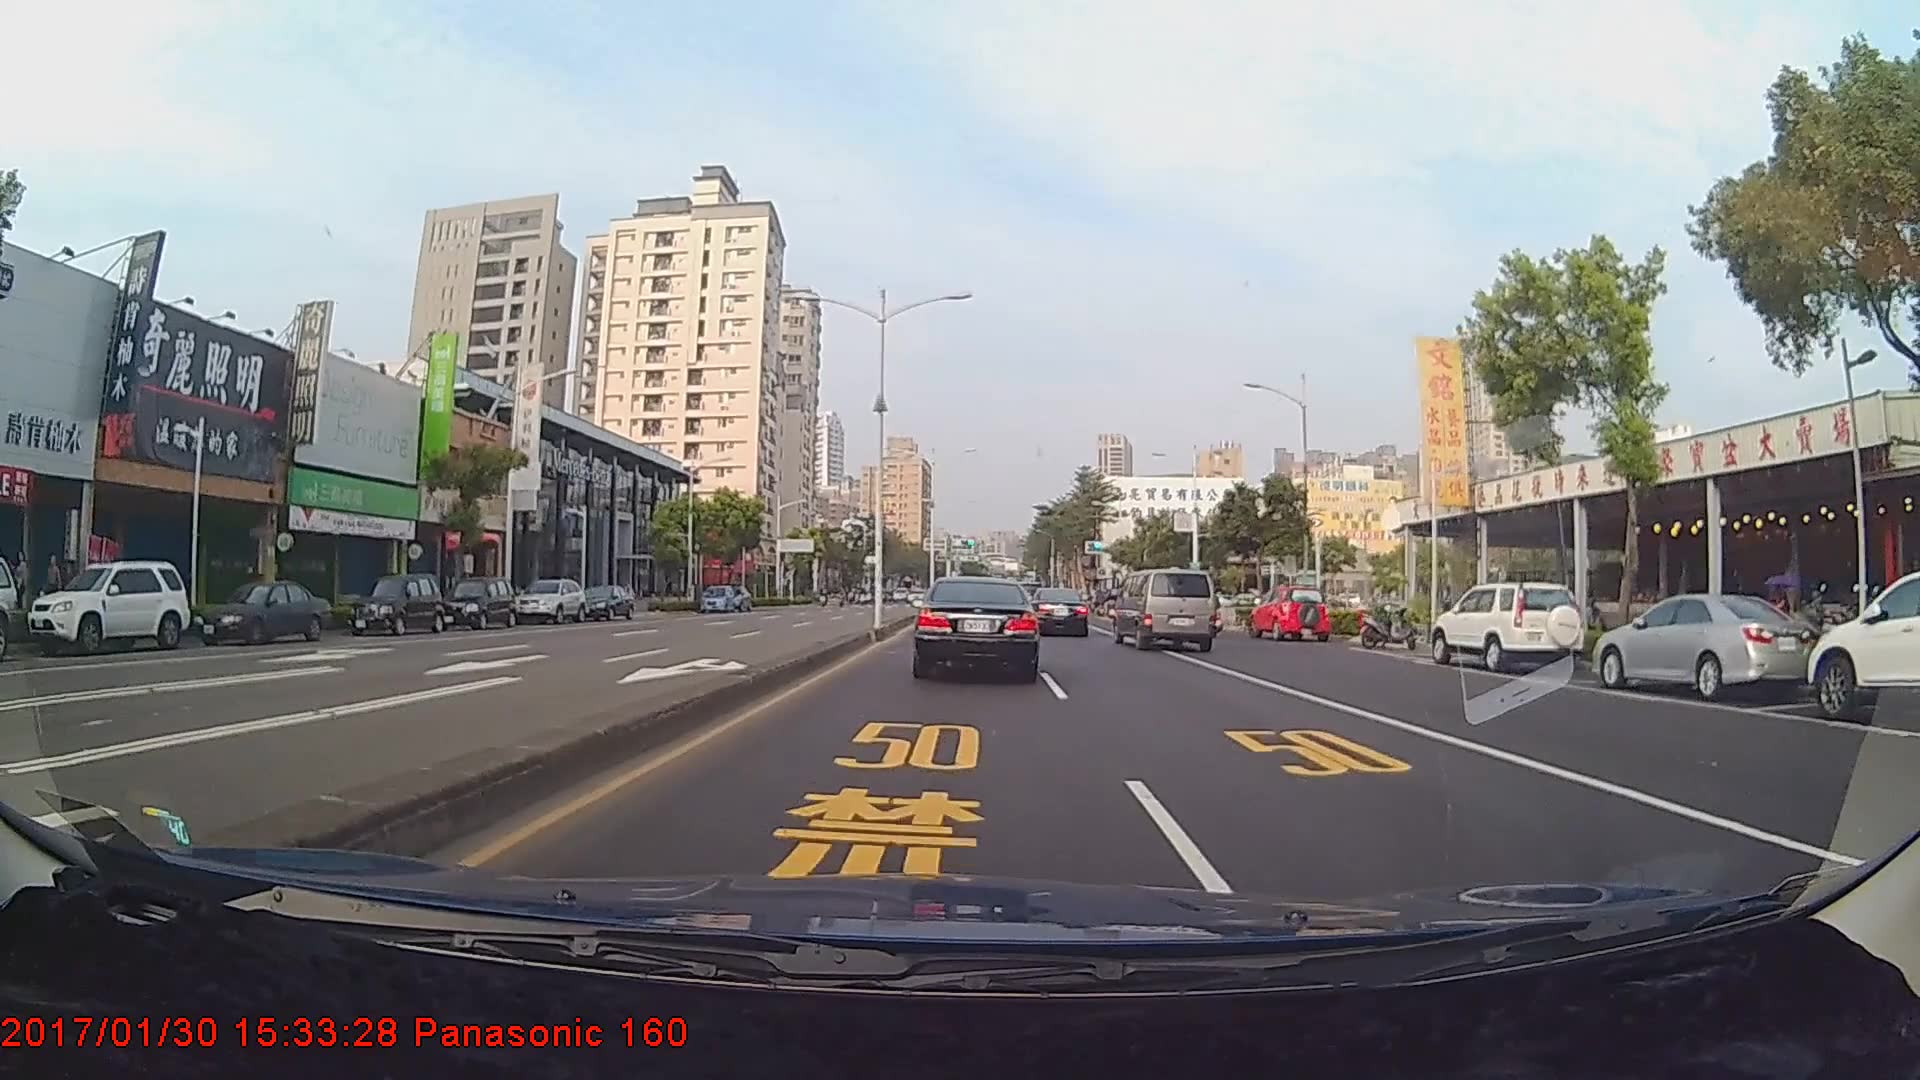vehicle: (1594, 585, 1815, 698), (1811, 570, 1920, 727), (24, 560, 191, 654), (1431, 582, 1585, 673), (913, 575, 1040, 680), (189, 579, 331, 649), (1114, 567, 1217, 650), (344, 574, 444, 636), (1251, 584, 1329, 644), (436, 578, 517, 632), (510, 578, 588, 625), (1027, 585, 1091, 637), (574, 585, 636, 621), (699, 583, 736, 612)
